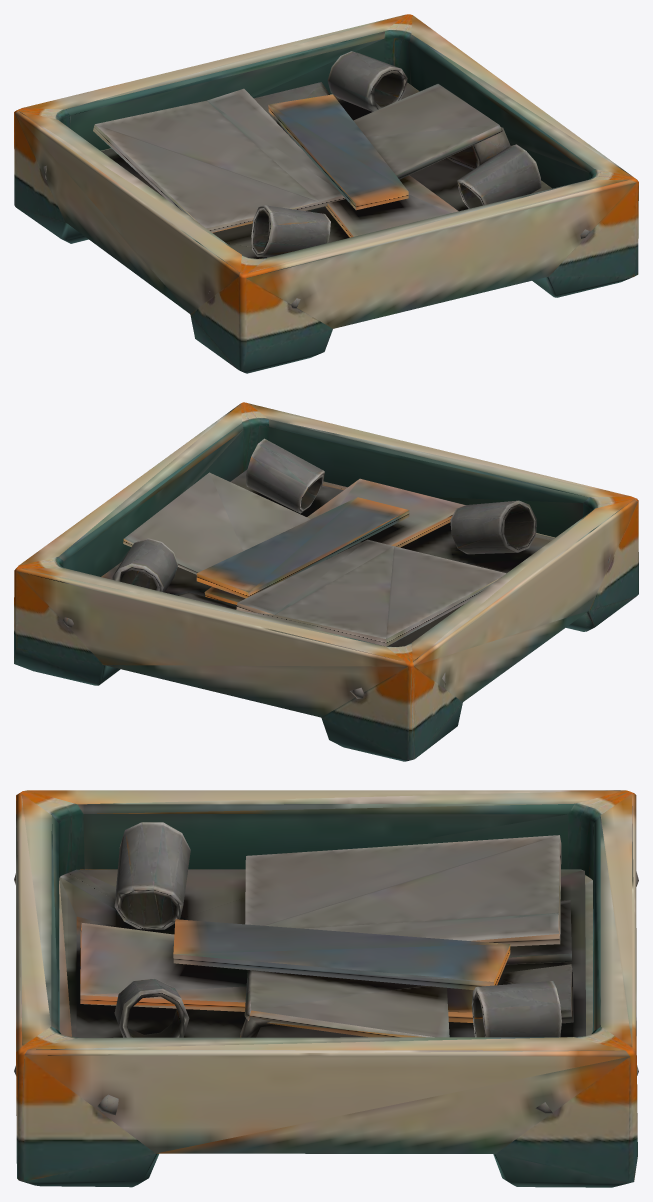
The model's file is source_metal-lod0.4734c52f6053.glb.
3 views of the same model, one above another, from view 1: azimuth 30°, elevation 25°; view 2: azimuth 150°, elevation 25°; view 3: azimuth 270°, elevation 25° (orthographic). The views are drawn at different scales.
Parts seen in each view (by area): view 1: geometry_0; view 2: geometry_0; view 3: geometry_0.
Part boxes in pixels (<box>): geometry_0: <box>14,14,638,373</box>; geometry_0: <box>14,402,638,761</box>; geometry_0: <box>14,790,638,1187</box>.
Size of the model in its own units: 1 by 0.2827 by 1.
1 material, 1 textured.
